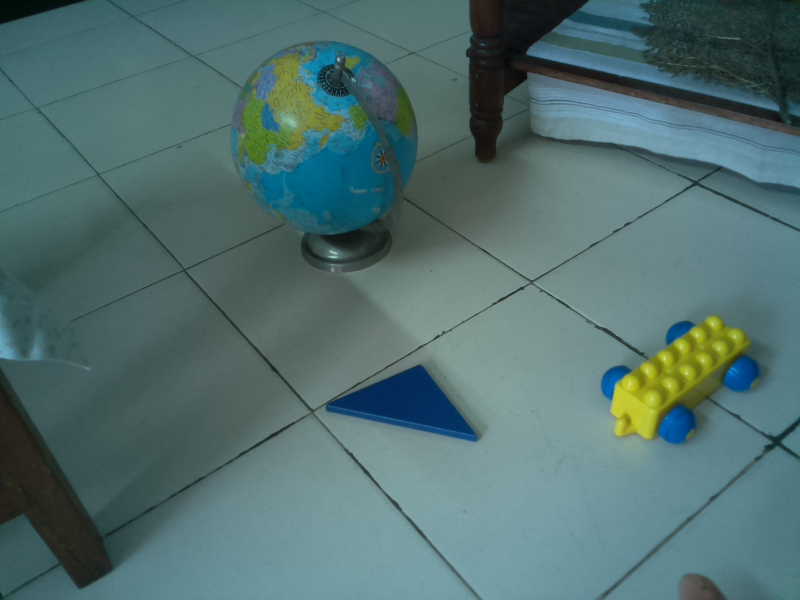Triangle: (323, 360, 483, 444)
toy_Car: (594, 311, 766, 447)
